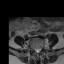CCS_normal: (36, 46, 38, 55)
LFS_normal: (40, 44, 43, 51)
LLS_normal: (38, 46, 40, 53)
RFS_stenosis: (32, 45, 34, 51)
RLS_normal: (34, 46, 36, 53)
